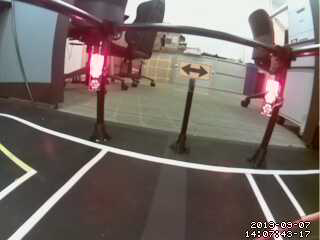Left_Right_sign: (177, 58, 213, 80)
Traffic_light_red: (262, 74, 284, 122), (88, 48, 106, 95)
